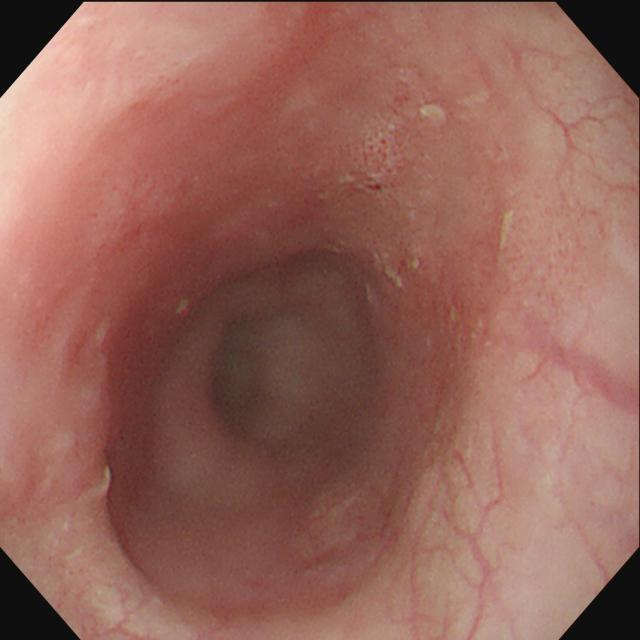A: (342, 99, 424, 202)
J: (416, 99, 455, 131)
